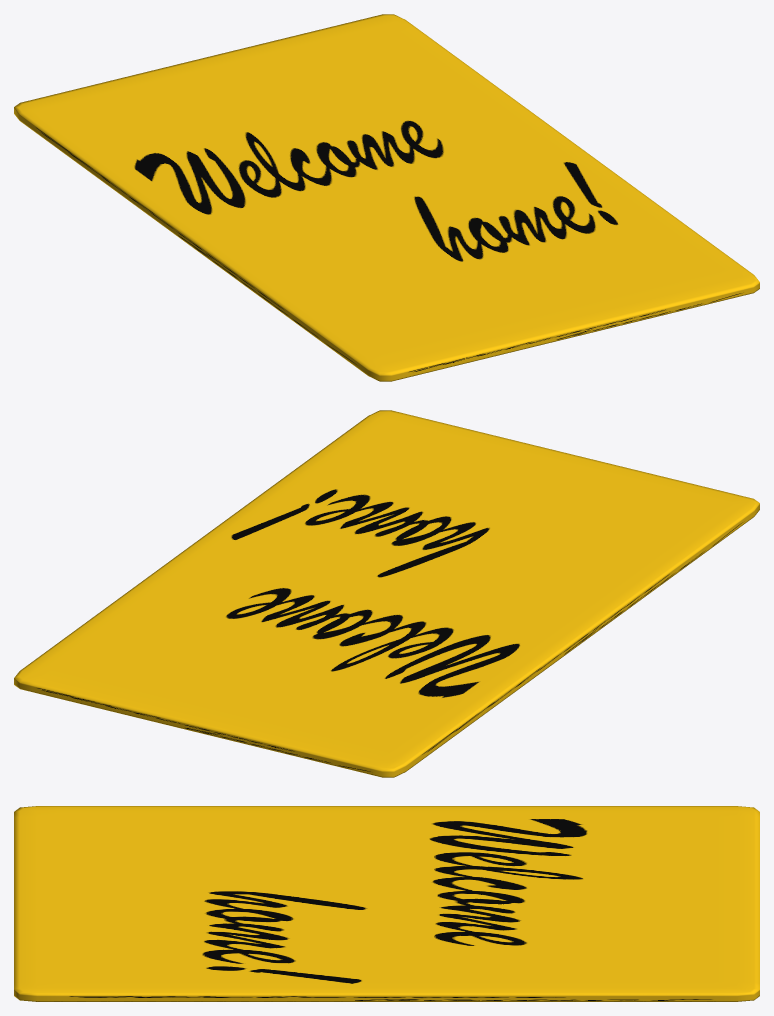
File: doormat.FBX
The picture shows the model from 3 angles, top to bottom: view 1: azimuth 30°, elevation 25°; view 2: azimuth 150°, elevation 25°; view 3: azimuth 270°, elevation 25°; orthographic projection.
Parts seen in each view (by area): view 1: Doormat; view 2: Doormat; view 3: Doormat.
Boxes of the visible parts, x1,y1,x2,y2 form: Doormat: (14, 14, 759, 381); Doormat: (14, 410, 759, 777); Doormat: (14, 806, 759, 1001).
Bounding box in the file's own units: 45 × 1 × 75.
